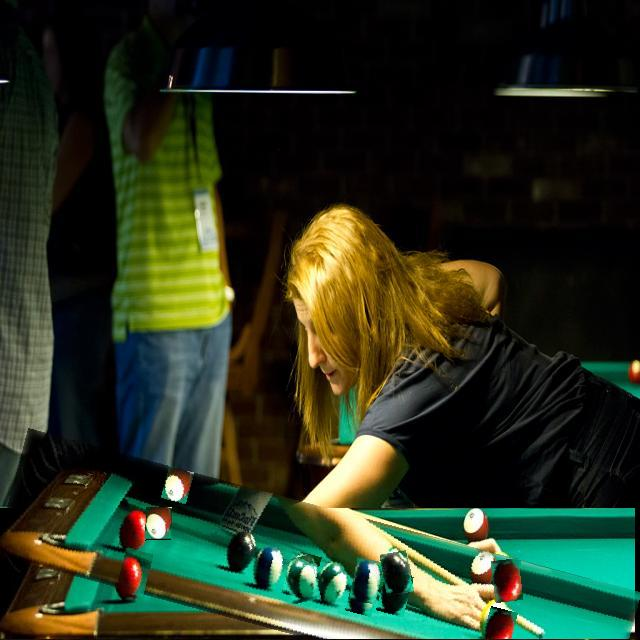Ball: (285, 556, 319, 603), (119, 550, 151, 596), (351, 558, 382, 603), (382, 551, 413, 595), (492, 559, 522, 603), (146, 508, 172, 542)
Billiard table: (0, 468, 638, 640)
